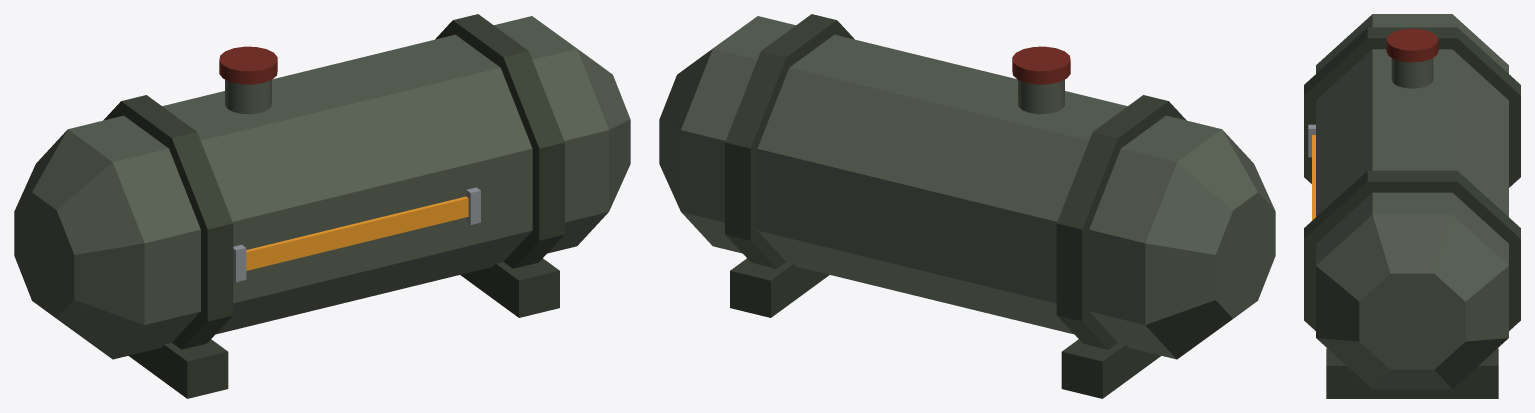
Rendered from ko600_fluid.obj.
3 views of the same model, side by side, from view 1: azimuth 30°, elevation 25°; view 2: azimuth 150°, elevation 25°; view 3: azimuth 270°, elevation 25° (orthographic). The views are drawn at different scales.
Visible parts, largest first — view 1: ko600_fluid; view 2: ko600_fluid; view 3: ko600_fluid.
Part boxes in pixels (left/top/right/bottom): ko600_fluid: left=14, top=14, right=630, bottom=398; ko600_fluid: left=659, top=14, right=1275, bottom=398; ko600_fluid: left=1304, top=14, right=1520, bottom=398.
Size of the model in its own units: 2.18 by 1.04 by 0.8315.
